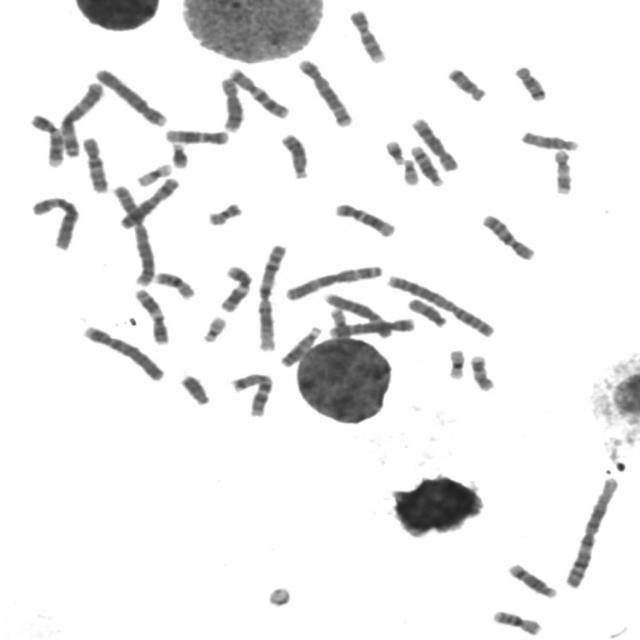A1: (561, 472, 621, 590), (252, 240, 289, 353)
A2: (383, 270, 497, 338), (108, 180, 156, 288)
A3: (280, 260, 386, 302), (55, 76, 106, 158)
B4: (77, 321, 166, 383), (91, 64, 170, 128)
B5: (294, 54, 355, 128), (325, 314, 418, 338)
C10: (478, 209, 538, 262), (77, 132, 110, 195)
C11: (130, 285, 171, 346), (214, 262, 254, 314)
C12: (330, 198, 398, 238), (160, 124, 232, 146)
C6: (320, 289, 393, 339), (27, 192, 81, 251)
C7: (223, 64, 292, 119), (226, 368, 276, 418)
C8: (408, 113, 460, 172), (215, 73, 246, 134)
C9: (344, 5, 388, 65), (26, 109, 66, 168)
D13: (270, 322, 331, 373), (276, 129, 311, 180)
D14: (503, 559, 560, 599), (407, 141, 445, 188)
D15: (517, 127, 581, 151), (406, 297, 449, 330)
E16: (488, 605, 544, 637), (150, 268, 197, 300)
E17: (549, 145, 575, 196), (467, 351, 498, 393)
E18: (442, 63, 488, 102), (510, 61, 549, 103)
F19: (132, 158, 174, 188), (442, 345, 468, 380)
F20: (203, 198, 245, 226), (324, 305, 348, 339)
G21: (380, 135, 407, 166), (166, 139, 190, 169)
G22: (198, 312, 228, 343), (398, 155, 421, 186)
X: (115, 173, 182, 230)
Y: (176, 370, 212, 407)
